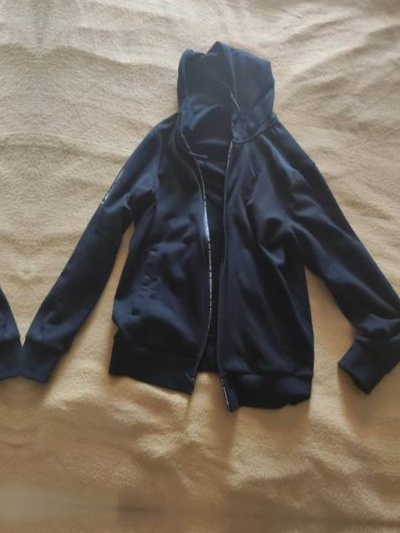Hoodie: (22, 24, 400, 426), (0, 2, 37, 405)
